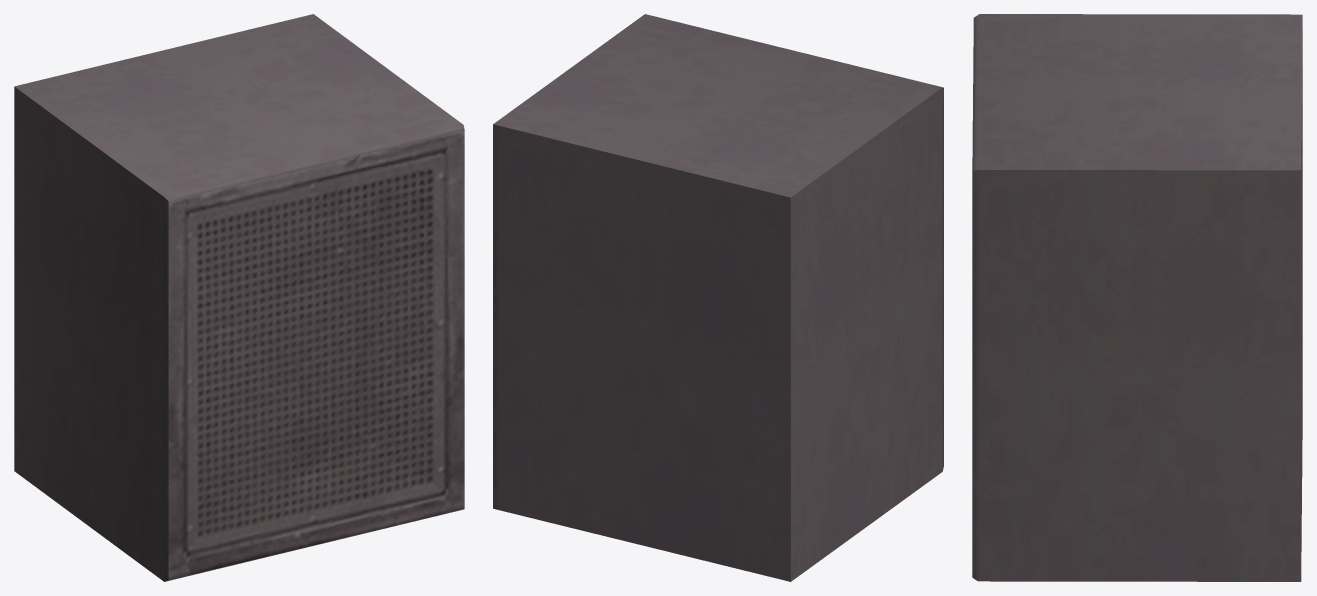
Rendered from Speaker_E.fbx.
The picture shows the model from 3 angles, left to right: view 1: azimuth 30°, elevation 25°; view 2: azimuth 150°, elevation 25°; view 3: azimuth 270°, elevation 25°; orthographic projection. The views are drawn at different scales.
Visible parts, largest first — view 1: Speaker_Small_07; view 2: Speaker_Small_07; view 3: Speaker_Small_07.
Boxes of the visible parts, x1,y1,x2,y2 form: Speaker_Small_07: (14,14,464,581); Speaker_Small_07: (493,14,943,581); Speaker_Small_07: (972,14,1302,581).
Bounding box in the file's own units: 1.04 × 1.27 × 0.9253.
